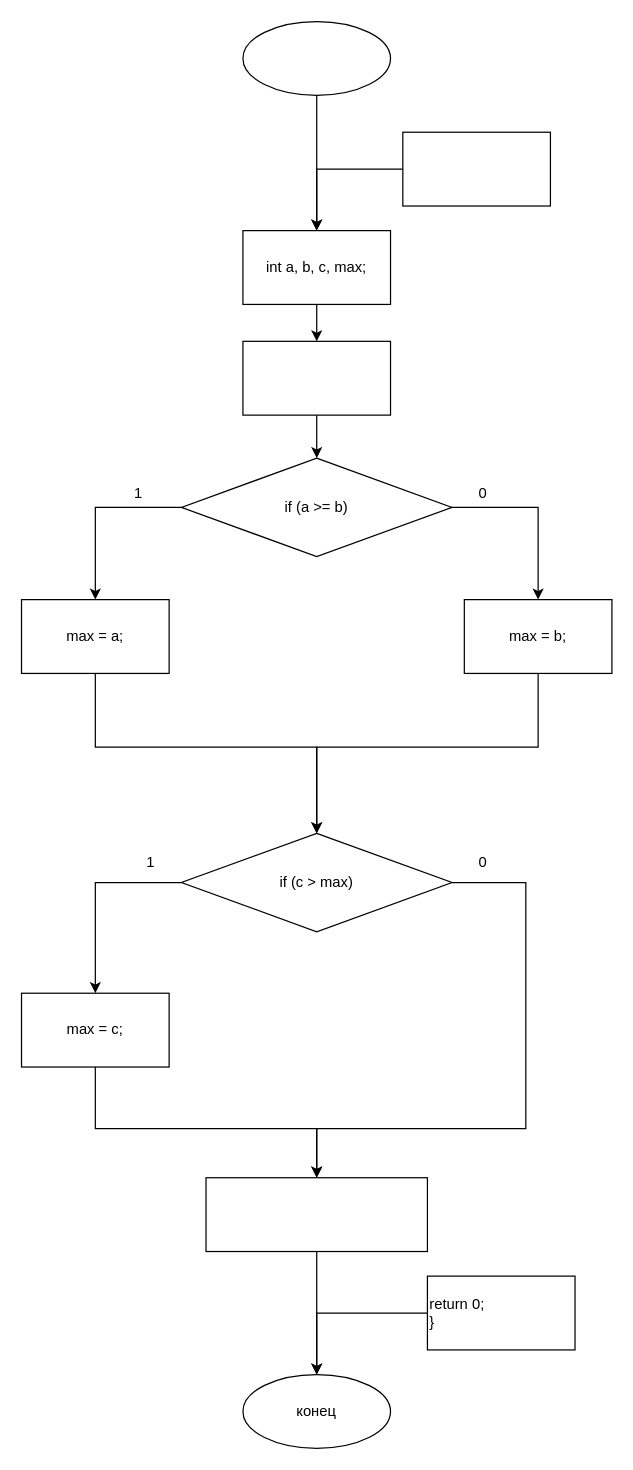
Some shapes in this 633 by 1470 pixel diagram are drawn without their labels. Each missing label, with the centre of its shape:
"#include <iostream> using namespace std; int main(){" goes at [476,168].
"cin >> a >> b >> c;" goes at [316,377].
"cout << max << endl;" goes at [316,1214].
"начало" goes at [316,57].
